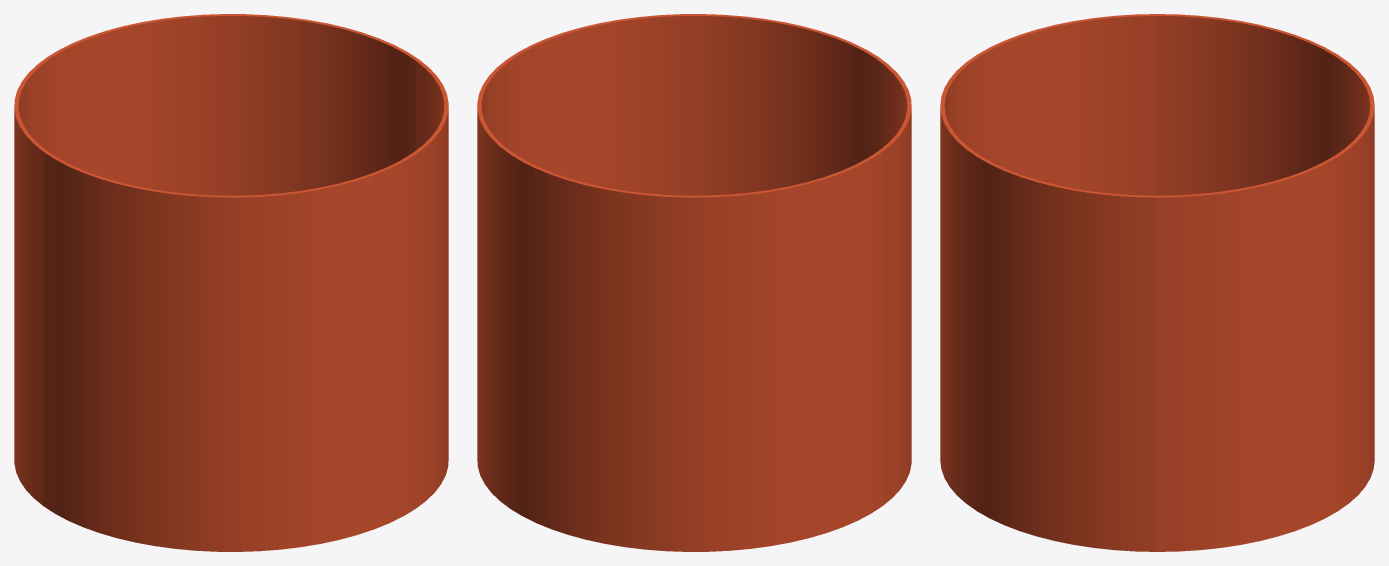
The model's file is desilication_tank_temperature.glb.
The picture shows the model from 3 angles, left to right: view 1: azimuth 30°, elevation 25°; view 2: azimuth 150°, elevation 25°; view 3: azimuth 270°, elevation 25°; orthographic projection.
Parts seen in each view (by area): view 1: temperature__front, temperature__back; view 2: temperature__back, temperature__front; view 3: temperature__back, temperature__front.
Part boxes in pixels (x1,y1,x2,y2): temperature__front: (43,60,448,551); temperature__back: (14,14,419,505); temperature__back: (477,60,882,551); temperature__front: (506,14,911,505); temperature__back: (1157,14,1374,551); temperature__front: (940,14,1157,551).
Bounding box in the file's own units: 2 × 1.8 × 2.
